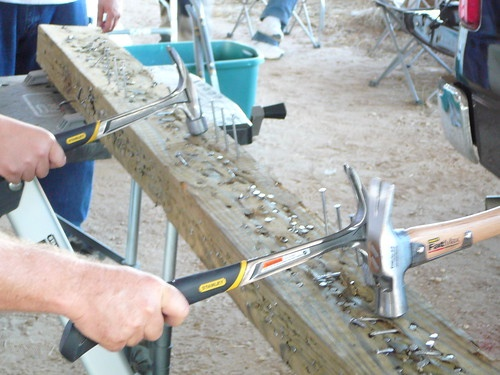hammer: (66, 165, 377, 359), (370, 173, 500, 319), (41, 40, 205, 151)
